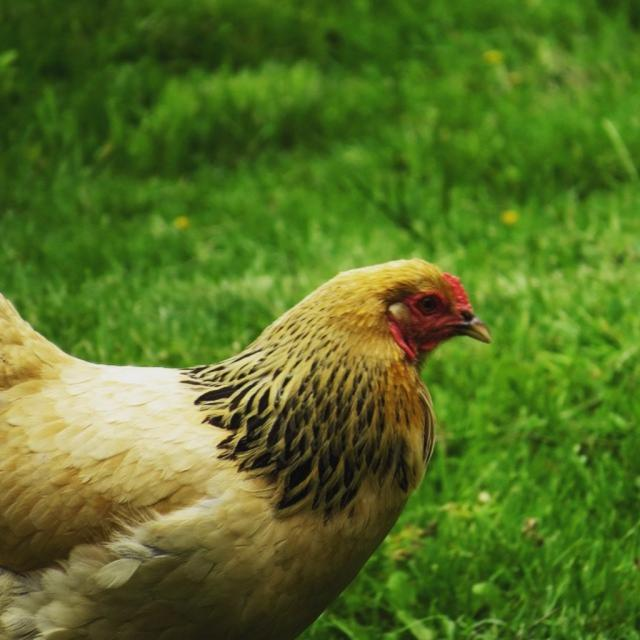Chicken: (1, 258, 492, 640)
